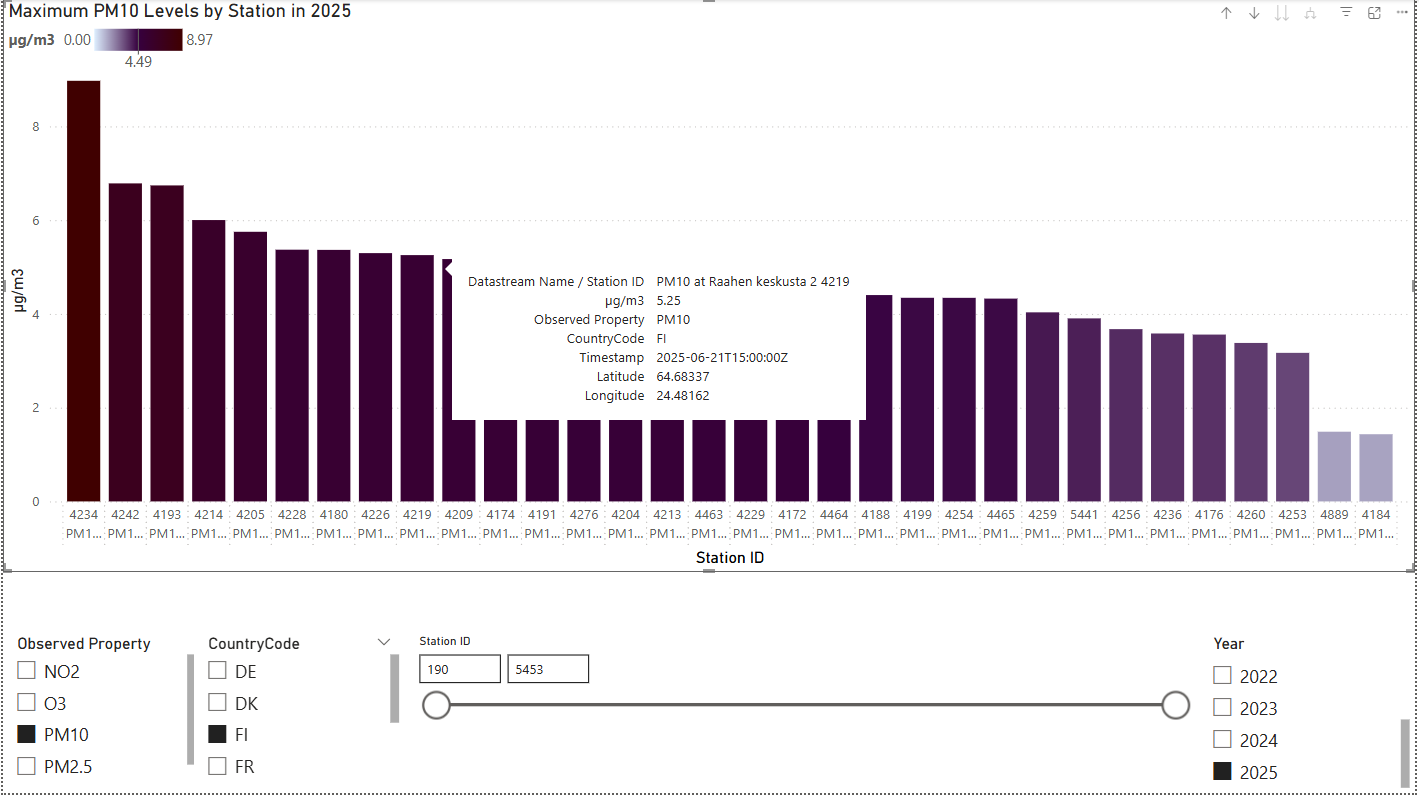

The dashboard page shown, as its layout file describes it:
{"tool":"powerbi","page":{"name":"Page 1","canvas":[1280,720],"ordinal":0},"visuals":[{"type":"slicer","fields":{"Values":["data.Year"]},"box":[1084.5,571.3,195.9,148.7],"z":0},{"type":"clusteredColumnChart","fields":{"Y":["Max(data.Result)"],"Category":["data.Datastream Name","data.Station ID"]},"box":[0,0,1280.4,519.6],"z":1000},{"type":"slicer","fields":{"Values":["data.Observed Property"]},"box":[0,570.9,179.9,148.8],"z":2000},{"type":"slicer","fields":{"Values":["data.Station ID"]},"box":[364.5,570.4,720,149.6],"z":3000},{"type":"slicer","fields":{"Values":["data.CountryCode"]},"box":[173.2,571.3,191.3,148.7],"z":4000}]}

Visuals, with their boxes on the page's 1280x720 design canvas (x1, y1, x2, y2). These are canvas units, not pixel positions in the 1419x796 screenshot, which may show the page scaled, cropped or inside an application window:
slicer - data.Year: (1084,571,1280,720)
clusteredColumnChart - Max(data.Result) x data.Datastream Name: (0,0,1280,520)
slicer - data.Observed Property: (0,571,180,720)
slicer - data.Station ID: (364,570,1084,720)
slicer - data.CountryCode: (173,571,364,720)
